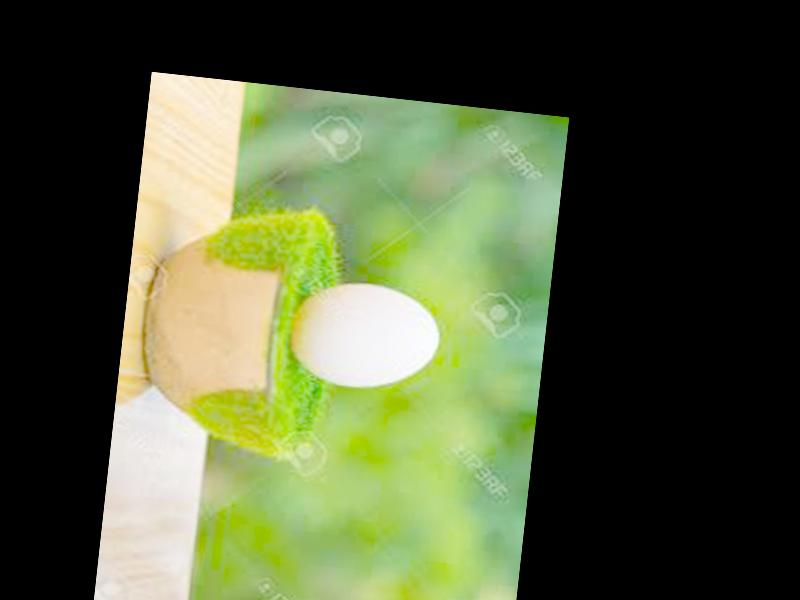Eggs: (285, 278, 441, 397)
